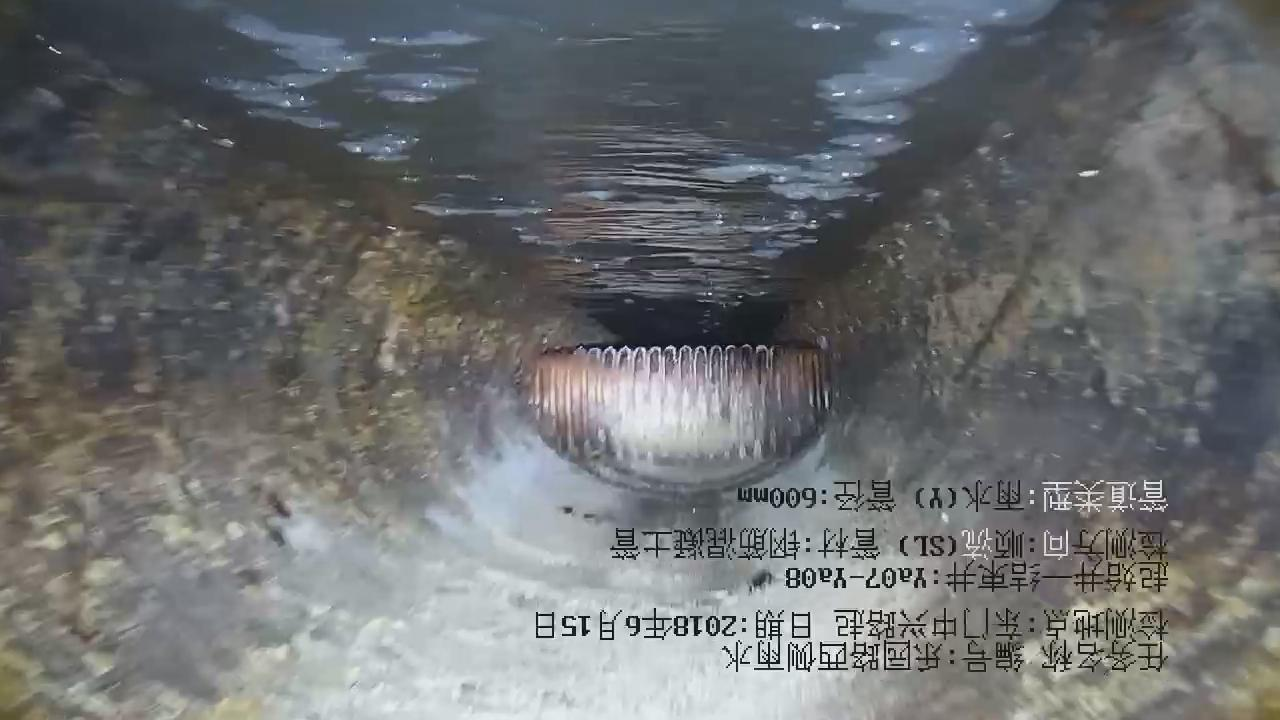FZ: (41, 1, 1051, 343)
YWCR: (522, 346, 833, 497)
